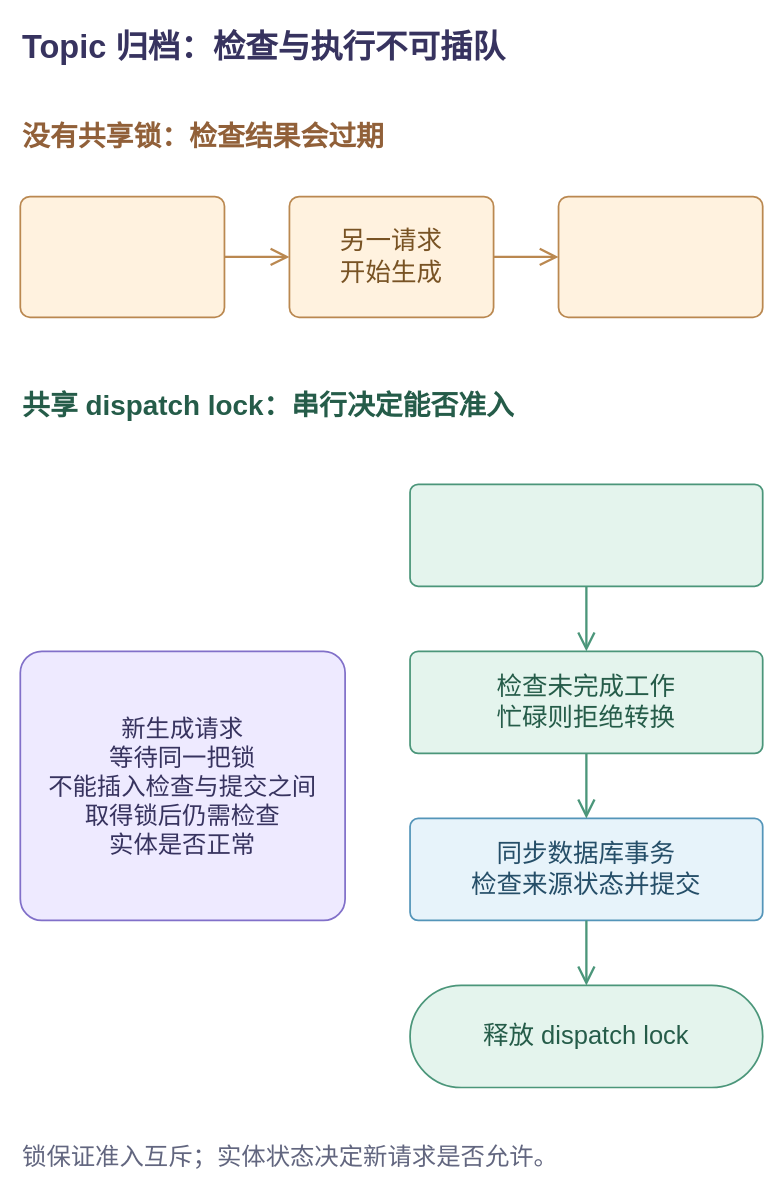
The diagram is 784 pixels wide and 1199 high, and some of its shapes have lost their labels. Here are the shapes that lost their labels. From the top down, the centre of each, then its label:
At pixel 122 256: "归档请求 检查：空闲".
At pixel 660 256: "归档发生 生成仍在继续".
At pixel 586 535: "取得 dispatch lock".
